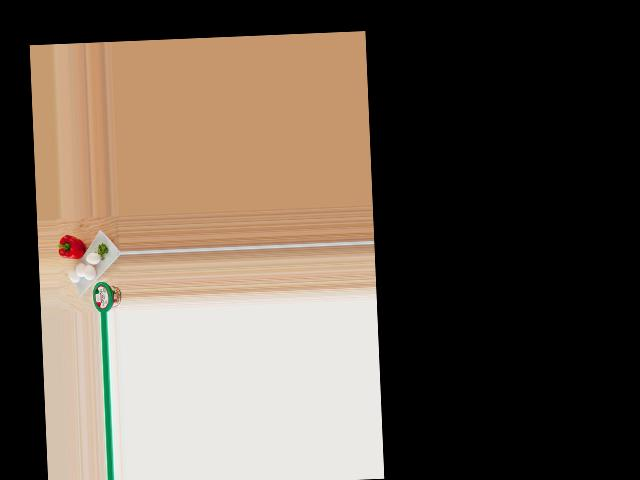bell_pepper: (58, 232, 85, 264)
